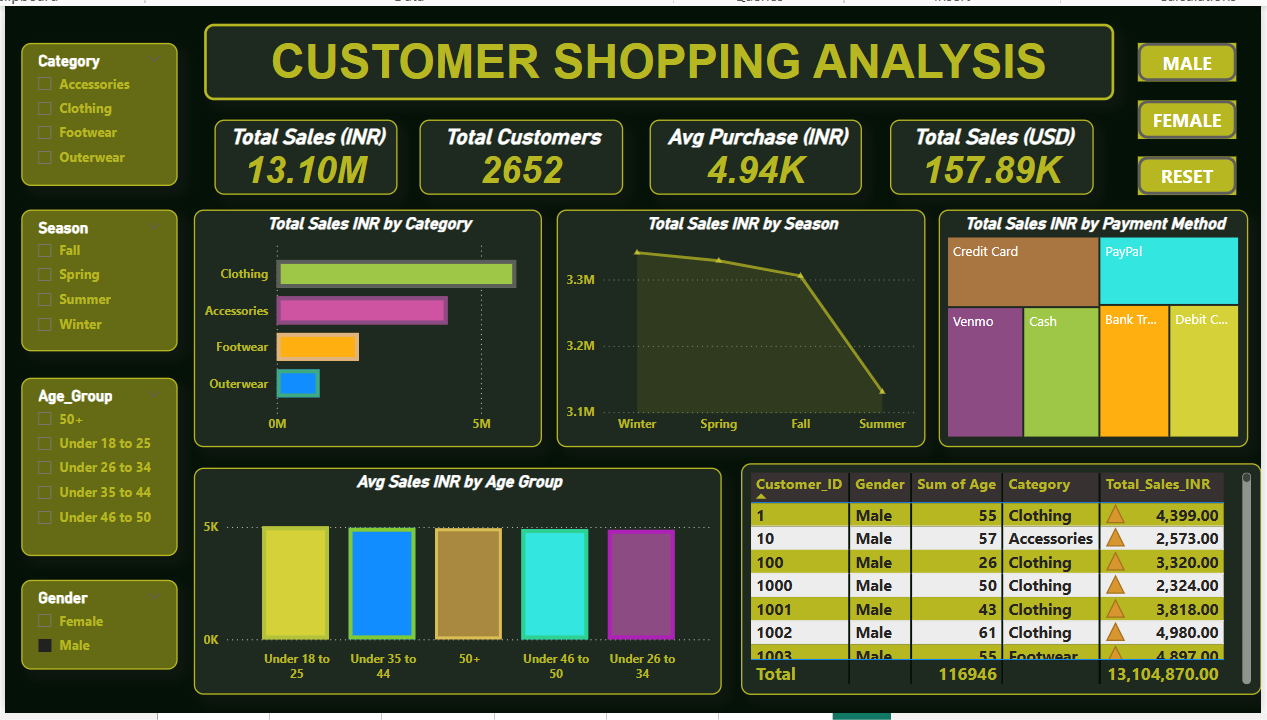

Layout of this report page (visuals, bound fields, positions):
{"tool":"powerbi","page":{"name":"Main","canvas":[1280,720],"ordinal":0},"visuals":[{"type":"card","title":"Total Sales (INR)","fields":{"Values":["Measure.Total_Sales_INR"]},"box":[213.3,115.7,186.3,76.6],"z":0},{"type":"card","title":"Total Customers","fields":{"Values":["Measure.Total_Customers"]},"box":[422.1,115.7,207.3,76.6],"z":1000},{"type":"card","title":"Avg Purchase (INR)","fields":{"Values":["Measure.Avg_Sales_INR"]},"box":[656.4,115.7,216.3,76.6],"z":2000},{"type":"card","title":"Total Sales (USD)","fields":{"Values":["Measure.Total_Sales_USD"]},"box":[901.2,115.7,207.3,76.6],"z":3000},{"type":"textbox","box":[202.8,18,926.8,78.1],"z":4000},{"type":"barChart","title":"Total Sales INR by Category","fields":{"Category":["shopping shopping_trends.Category"],"Y":["Measure.Total_Sales_INR"]},"box":[192.3,207.3,354.5,241.8],"z":5000},{"type":"columnChart","title":"Avg Sales INR by Age Group","fields":{"Category":["shopping shopping_trends.Age_Group"],"Y":["Measure.Avg_Sales_INR"]},"box":[192.3,470.1,537.7,231.3],"z":6000},{"type":"treemap","title":"Total Sales INR by Payment Method","fields":{"Group":["shopping shopping_trends.Payment_Method"],"Values":["Measure.Total_Sales_INR"]},"box":[950.8,207.3,315.4,241.8],"z":7000},{"type":"slicer","fields":{"Values":["shopping shopping_trends.Category"]},"box":[16.5,37.6,159.2,145.7],"z":8000},{"type":"slicer","fields":{"Values":["shopping shopping_trends.Age_Group"]},"box":[16.5,378.5,159.2,181.7],"z":10000},{"type":"slicer","fields":{"Values":["shopping shopping_trends.Season"]},"box":[16.5,207.3,159.2,144.2],"z":11000},{"type":"lineChart","title":"Total Sales INR by Season","fields":{"Category":["shopping shopping_trends.Season"],"Y":["Measure.Total_Sales_INR"]},"box":[561.8,207.3,375.5,241.8],"z":12000},{"type":"tableEx","fields":{"Values":["shopping shopping_trends.Customer_ID","shopping shopping_trends.Gender","Sum(shopping shopping_trends.Age)","shopping shopping_trends.Category","Measure.Total_Sales_INR"]},"box":[749.5,465.6,530.2,235.8],"z":13000},{"type":"slicer","fields":{"Values":["shopping shopping_trends.Gender"]},"box":[16.5,584.3,159.2,91.6],"z":14000},{"type":"actionButton","box":[1153.6,37.6,100.6,39.1],"z":15000},{"type":"actionButton","box":[1153.6,96.1,100.6,39.1],"z":16000},{"type":"actionButton","box":[1153.6,153.2,100.6,39.1],"z":17000}]}

Visuals, with their boxes in screenshot pixels (x1, y1, x2, y2):
"Total Sales (INR)" card: [left=199, top=117, right=388, bottom=195]
"Total Customers" card: [left=411, top=117, right=620, bottom=195]
"Avg Purchase (INR)" card: [left=648, top=117, right=867, bottom=195]
"Total Sales (USD)" card: [left=896, top=117, right=1105, bottom=195]
textbox: [left=189, top=18, right=1127, bottom=97]
"Total Sales INR by Category" barChart: [left=178, top=210, right=537, bottom=455]
"Avg Sales INR by Age Group" columnChart: [left=178, top=476, right=722, bottom=710]
"Total Sales INR by Payment Method" treemap: [left=946, top=210, right=1265, bottom=455]
slicer - shopping shopping_trends.Category: [left=0, top=38, right=161, bottom=186]
slicer - shopping shopping_trends.Age_Group: [left=0, top=383, right=161, bottom=567]
slicer - shopping shopping_trends.Season: [left=0, top=210, right=161, bottom=356]
"Total Sales INR by Season" lineChart: [left=552, top=210, right=932, bottom=455]
tableEx - shopping shopping_trends.Customer_ID x shopping shopping_trends.Gender: [left=742, top=471, right=1266, bottom=710]
slicer - shopping shopping_trends.Gender: [left=0, top=591, right=161, bottom=684]
actionButton: [left=1151, top=38, right=1253, bottom=78]
actionButton: [left=1151, top=97, right=1253, bottom=137]
actionButton: [left=1151, top=155, right=1253, bottom=195]
